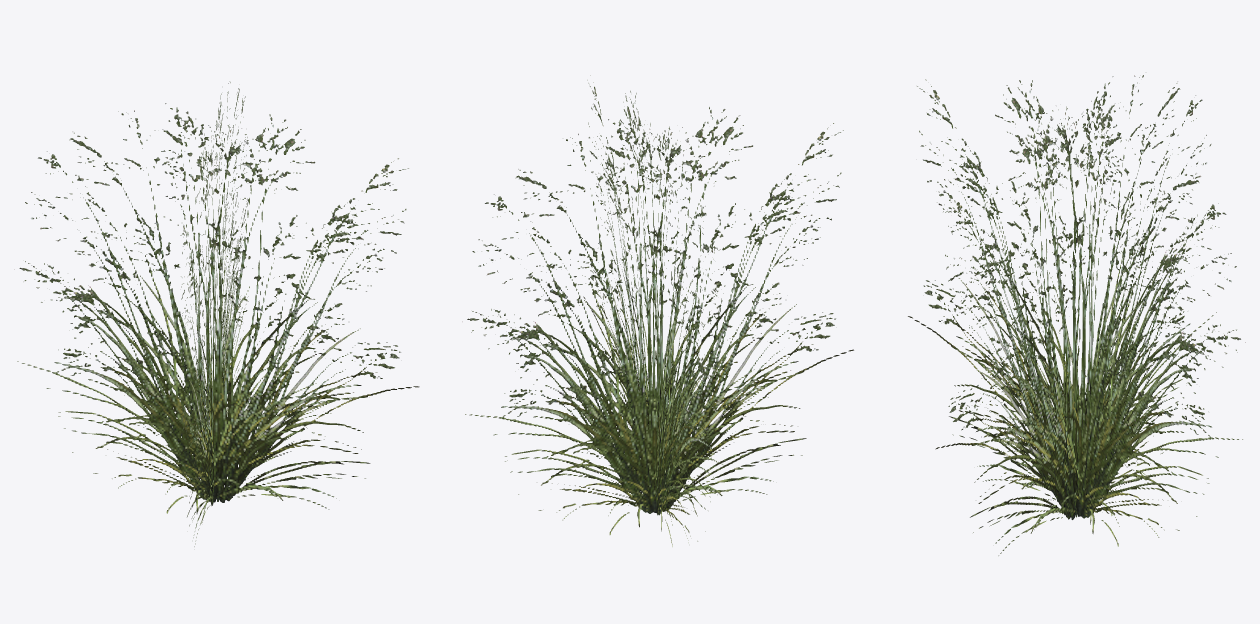
Rendered from SM_FOL_Flower_Medium_01_A.fbx.
3 views of the same model, side by side, from view 1: azimuth 30°, elevation 25°; view 2: azimuth 150°, elevation 25°; view 3: azimuth 270°, elevation 25° (orthographic). The views are drawn at different scales.
Parts seen in each view (by area): view 1: SM_FOL_Flower_Medium_01_A; view 2: SM_FOL_Flower_Medium_01_A; view 3: SM_FOL_Flower_Medium_01_A.
Part boxes in pixels (x1,y1,x2,y2): SM_FOL_Flower_Medium_01_A: (14,81,419,546); SM_FOL_Flower_Medium_01_A: (462,75,853,546); SM_FOL_Flower_Medium_01_A: (908,75,1245,555).
Size of the model in its own units: 33.49 by 47.44 by 33.49.
Materials: 1 (1 with a texture image).
